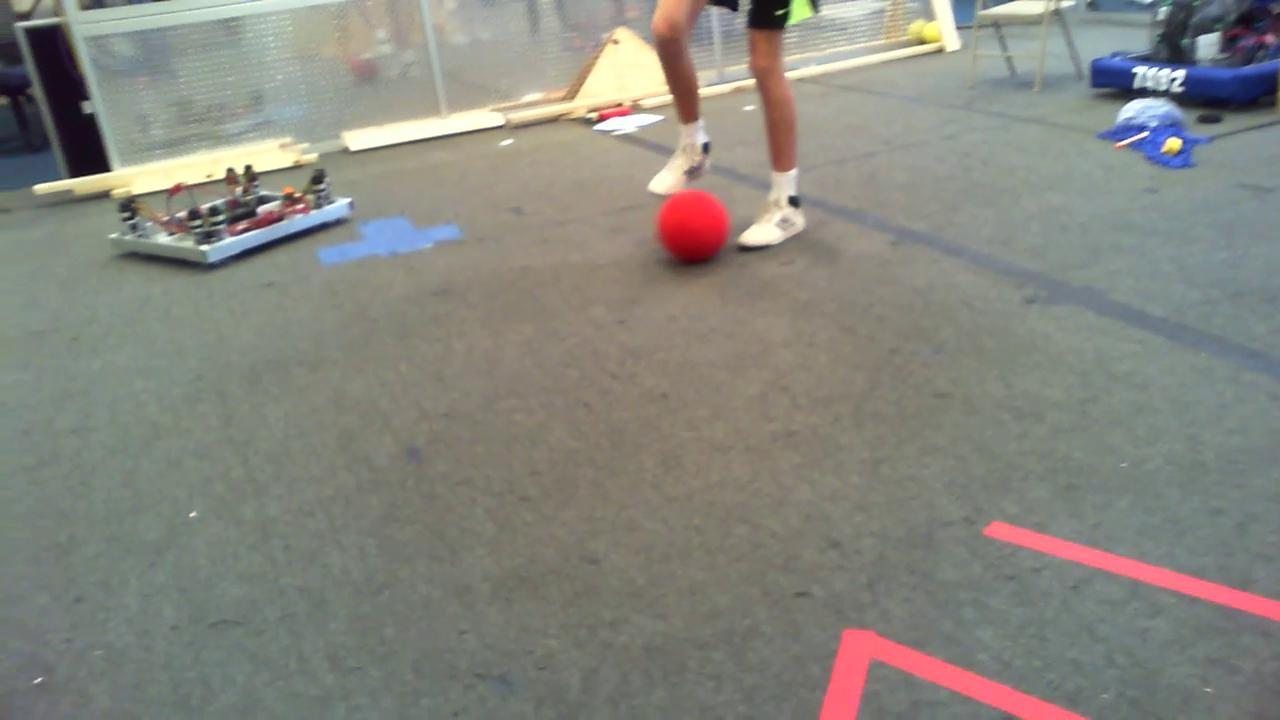Red_Ball: (639, 184, 733, 263)
